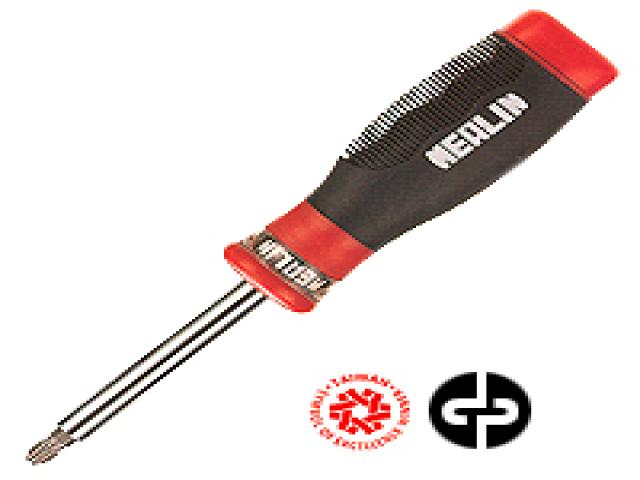Screwdriver: (29, 11, 618, 464)
